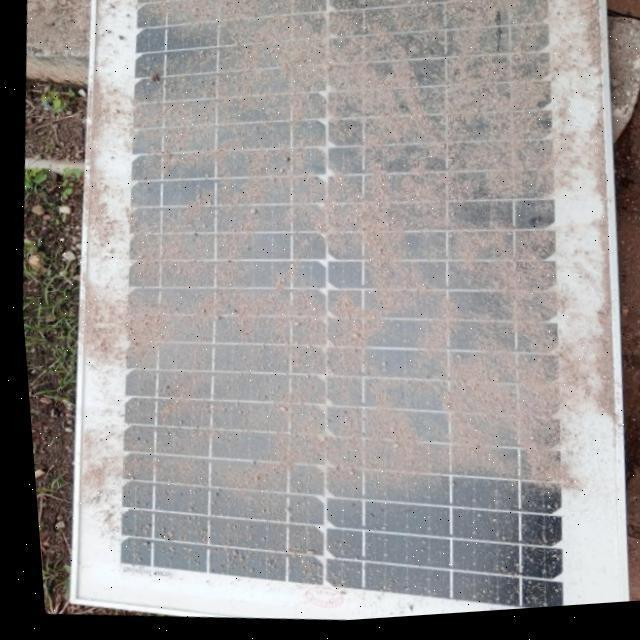Anomaly Solar Panel: (54, 0, 640, 637)
Surface Contaminant: (74, 0, 575, 591)
